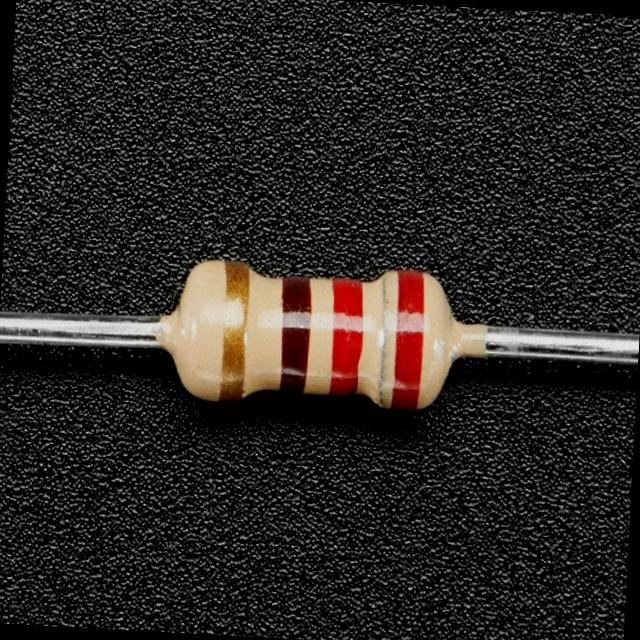Resistor: (155, 242, 486, 439)
